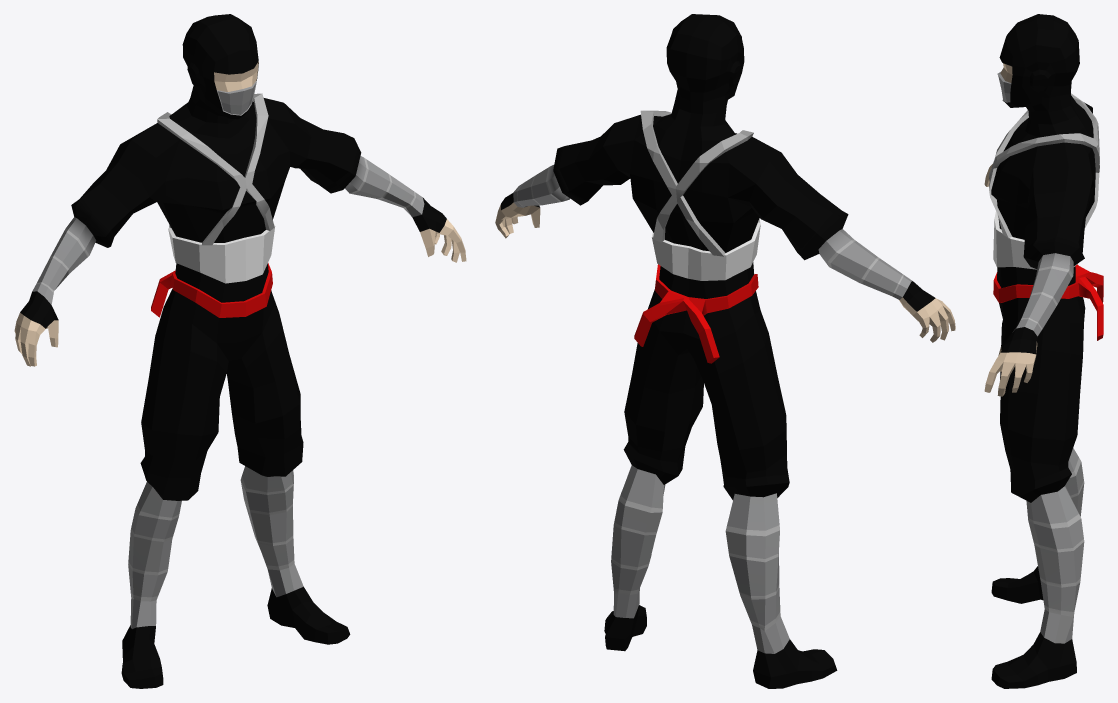
The model's file is Ninja.fbx.
3 renders of one model, left to right at view 1: azimuth 30°, elevation 25°; view 2: azimuth 150°, elevation 25°; view 3: azimuth 270°, elevation 25°, orthographic. The views are drawn at different scales.
Parts seen in each view (by area): view 1: NInja; view 2: NInja; view 3: NInja.
Part boxes in pixels (box(x1,y1,x2,y2)): NInja: box(14, 14, 466, 688); NInja: box(495, 14, 955, 688); NInja: box(984, 14, 1103, 688).
Bounding box in the file's own units: 4.32 × 5.96 × 1.04.
